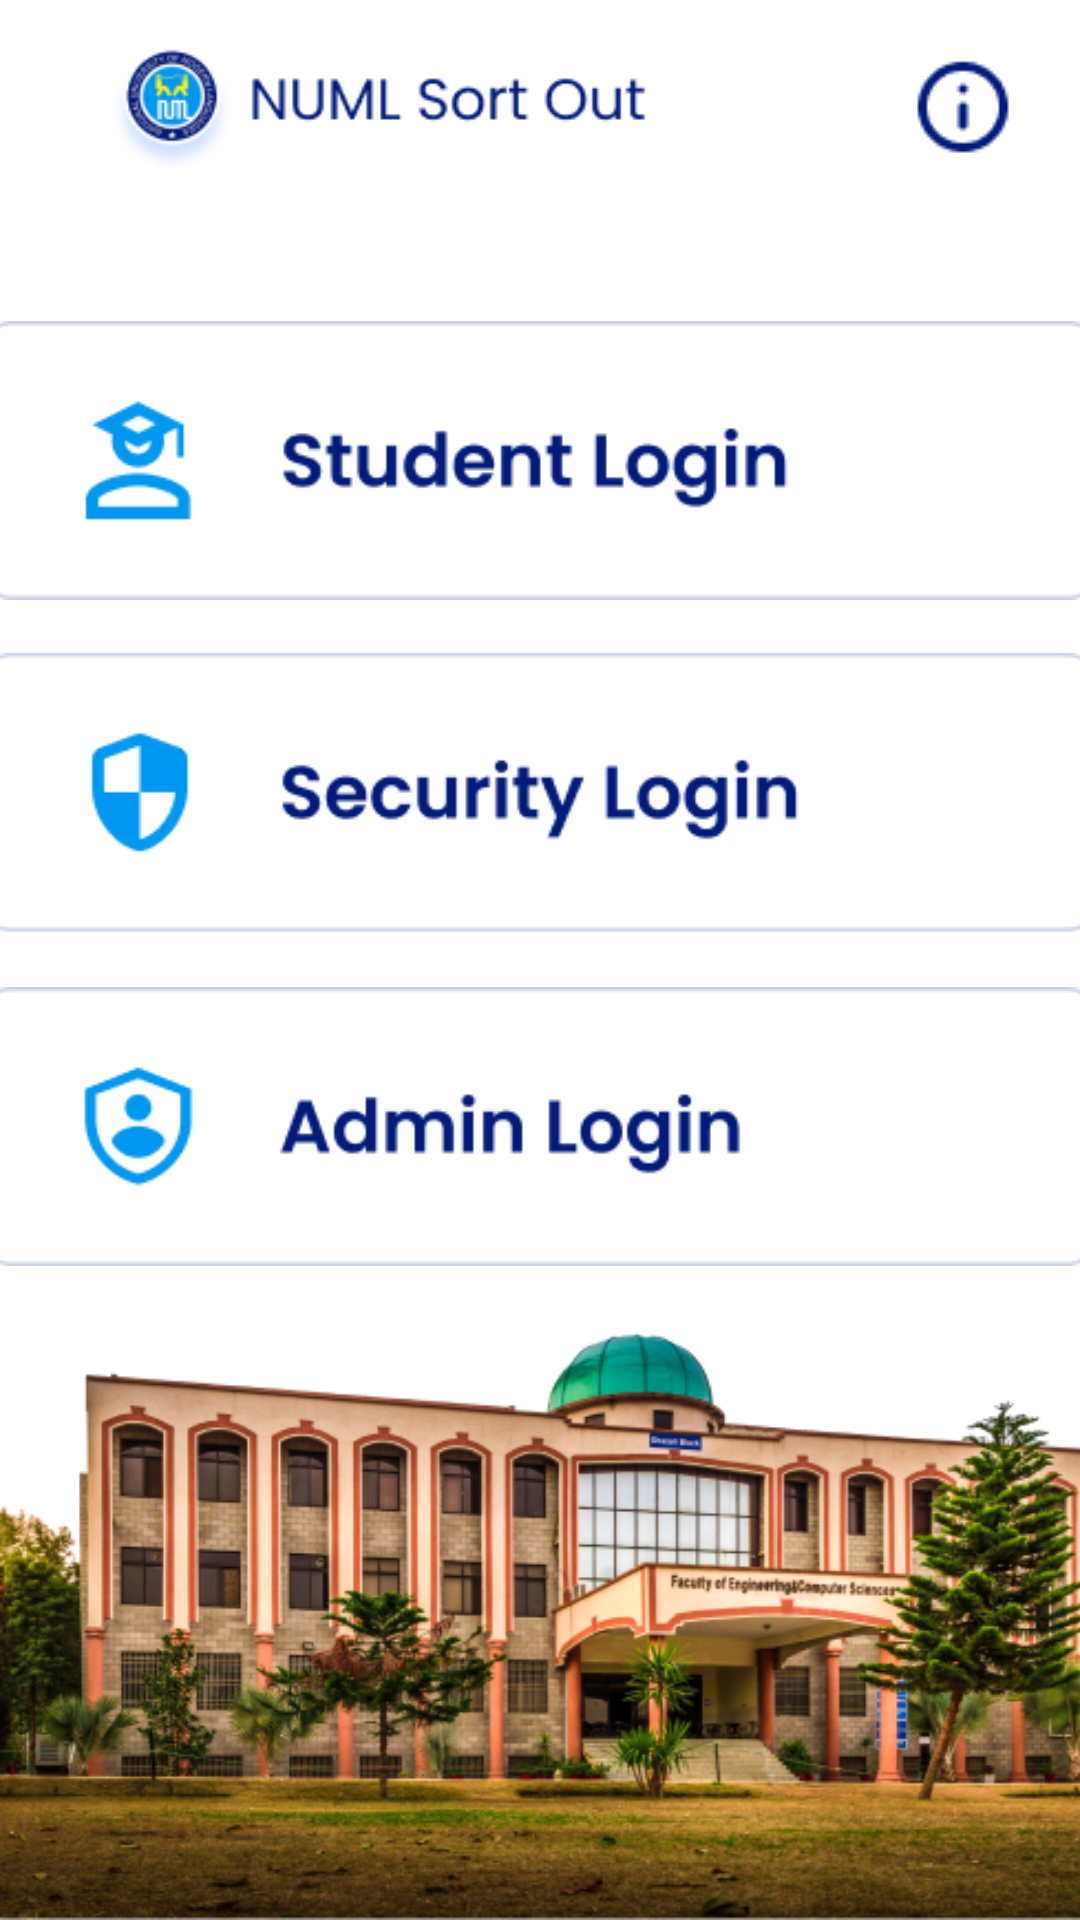

Named icons in this screenshot (1080px x 1920px) and their centers, (x=x, y=y):
info: (x=963, y=107)
